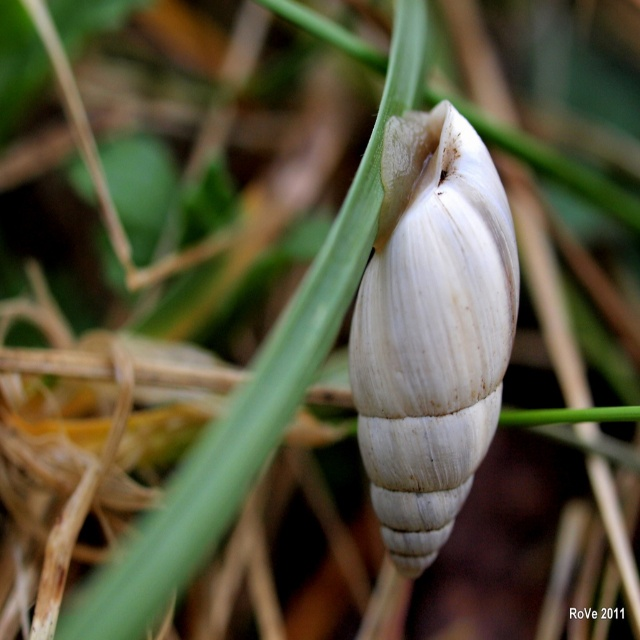Snail: (345, 96, 520, 583)
